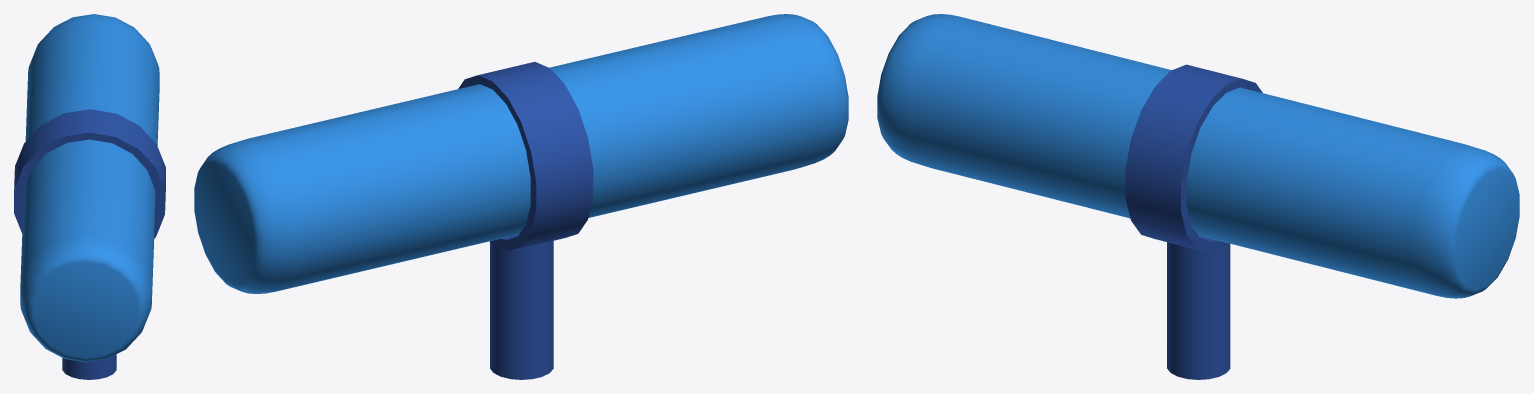
3 views of the same model, side by side, from view 1: azimuth 30°, elevation 25°; view 2: azimuth 150°, elevation 25°; view 3: azimuth 270°, elevation 25° (orthographic). The views are drawn at different scales.
Visible parts, largest first — view 1: Cylinder, Cylinder_body; view 2: Cylinder, Cylinder_body; view 3: Cylinder, Cylinder_body.
Boxes of the visible parts, bbox=[...] form: Cylinder: bbox=[20, 14, 159, 362]; Cylinder_body: bbox=[14, 109, 165, 379]; Cylinder: bbox=[194, 14, 848, 293]; Cylinder_body: bbox=[458, 62, 593, 379]; Cylinder: bbox=[877, 14, 1519, 298]; Cylinder_body: bbox=[1125, 64, 1262, 379].
Bounding box in the file's own units: 2.05 × 1.43 × 2.87.
